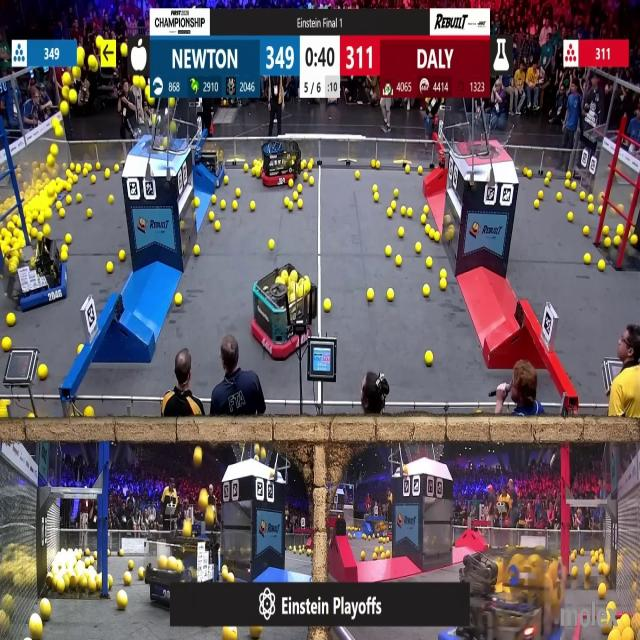ball_airborne: (31, 617, 43, 640), (192, 448, 202, 467), (200, 490, 210, 508), (206, 508, 215, 528), (182, 520, 192, 536), (76, 50, 84, 67), (89, 56, 98, 71), (68, 91, 77, 105), (61, 102, 70, 115), (64, 73, 72, 86), (120, 43, 127, 56), (97, 36, 104, 48), (72, 68, 80, 78), (56, 127, 63, 138), (50, 144, 57, 155), (133, 75, 140, 86), (51, 116, 58, 126), (262, 446, 268, 457), (47, 157, 53, 167), (170, 98, 176, 108), (164, 137, 169, 149), (171, 120, 177, 130), (140, 76, 146, 86), (145, 88, 150, 99), (148, 98, 153, 106), (152, 114, 156, 121), (255, 455, 259, 462)
ball_ground: (40, 600, 51, 620), (116, 592, 126, 610), (96, 574, 104, 590), (6, 313, 15, 327), (38, 364, 47, 378), (2, 338, 11, 352), (425, 351, 433, 366), (598, 586, 606, 600), (59, 582, 67, 595), (86, 408, 95, 419), (125, 572, 133, 584), (387, 288, 394, 301), (602, 624, 610, 635), (175, 292, 182, 304), (324, 300, 331, 312), (602, 225, 610, 235), (8, 265, 16, 275), (366, 288, 372, 301), (618, 224, 625, 235), (118, 250, 125, 261), (43, 224, 50, 235), (0, 409, 7, 420), (423, 284, 429, 296), (139, 567, 145, 579), (586, 564, 592, 576), (598, 262, 605, 272), (585, 253, 592, 263), (269, 240, 276, 250), (607, 601, 614, 611), (631, 236, 638, 246), (44, 209, 51, 219), (31, 230, 38, 240), (395, 255, 401, 266), (107, 263, 113, 274), (604, 564, 610, 575), (226, 572, 233, 581), (250, 202, 256, 212), (386, 246, 392, 256), (192, 246, 198, 256), (66, 235, 72, 245), (236, 187, 242, 197), (442, 280, 448, 290), (220, 200, 226, 210), (387, 208, 393, 218), (193, 198, 199, 208), (604, 238, 610, 248), (584, 225, 590, 235), (233, 201, 239, 211), (214, 220, 220, 230), (397, 229, 403, 239), (434, 233, 440, 243), (571, 567, 577, 577), (416, 243, 422, 253), (616, 236, 622, 246), (62, 252, 68, 262), (292, 190, 298, 200), (0, 399, 8, 406), (427, 256, 432, 267), (108, 574, 113, 585), (596, 565, 601, 576), (570, 181, 576, 190), (76, 192, 82, 201), (556, 191, 562, 200), (406, 164, 412, 173), (424, 224, 430, 233), (390, 201, 396, 210), (75, 166, 81, 175), (66, 182, 72, 191), (252, 168, 258, 177), (428, 231, 434, 240), (568, 212, 573, 222), (88, 209, 93, 219), (442, 270, 447, 280), (408, 208, 413, 218), (565, 182, 570, 192), (296, 201, 302, 209), (418, 167, 424, 175), (372, 194, 378, 202), (579, 191, 585, 199), (244, 165, 250, 173), (371, 184, 377, 192), (108, 194, 114, 202), (566, 172, 572, 180), (72, 175, 78, 183), (78, 345, 84, 353), (82, 168, 88, 176), (299, 162, 305, 170), (66, 170, 72, 178), (61, 209, 66, 218), (355, 171, 360, 180), (393, 188, 398, 197), (421, 214, 426, 223), (400, 207, 405, 216), (212, 194, 217, 203), (105, 170, 110, 179), (130, 561, 135, 570), (209, 212, 214, 221), (589, 193, 594, 202), (534, 200, 539, 209), (370, 161, 375, 170), (598, 207, 604, 214), (83, 560, 89, 567), (92, 175, 97, 183), (589, 205, 594, 213), (67, 197, 72, 205), (297, 184, 302, 192), (527, 170, 532, 178), (306, 161, 311, 169), (376, 162, 381, 170), (288, 203, 292, 212), (29, 414, 35, 420), (114, 166, 119, 173), (307, 180, 312, 187), (371, 554, 376, 561), (545, 172, 550, 179), (570, 555, 575, 562), (592, 558, 597, 565), (538, 190, 542, 198), (224, 176, 228, 184), (544, 178, 548, 186), (97, 164, 101, 172), (360, 553, 364, 561), (580, 550, 584, 558), (58, 202, 62, 210), (387, 552, 391, 560), (381, 554, 386, 560), (424, 207, 428, 214), (288, 180, 292, 187), (380, 545, 384, 552), (119, 551, 123, 557)
goal: (459, 118, 516, 158), (128, 115, 188, 152)
robot_blue: (474, 544, 568, 638), (142, 529, 224, 614), (12, 238, 68, 310), (197, 140, 227, 186), (371, 520, 393, 540)
robot_red: (251, 265, 314, 356), (261, 137, 303, 185)
